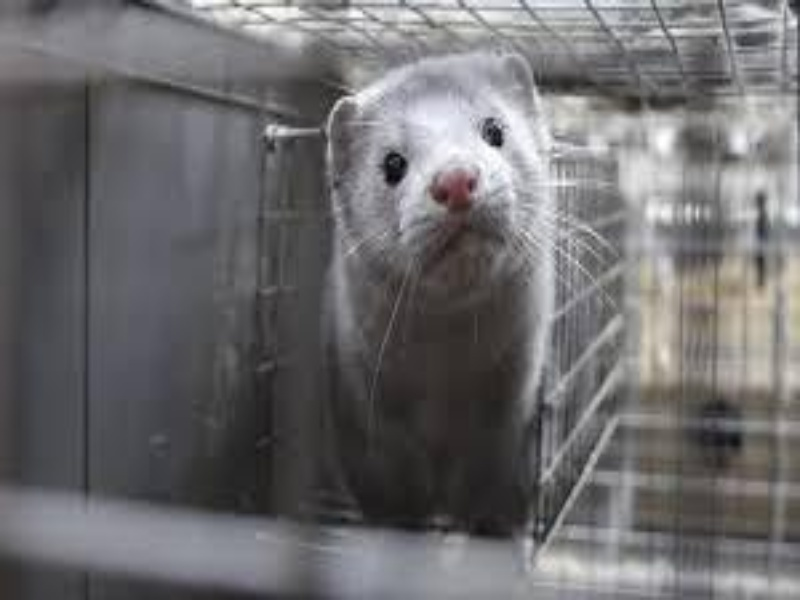minkish: (317, 46, 560, 533)
